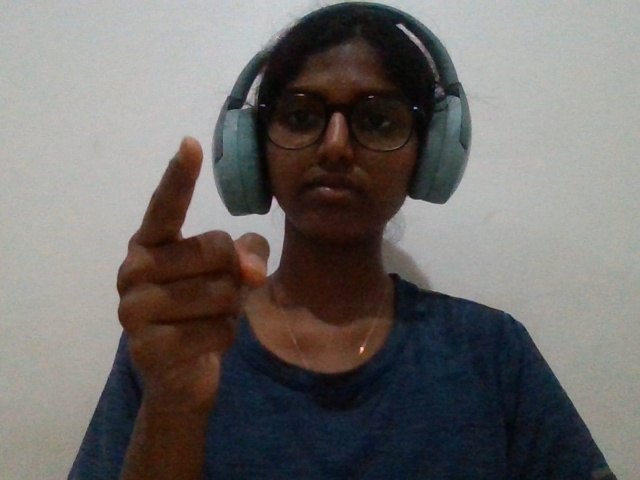You: (72, 116, 289, 465)
